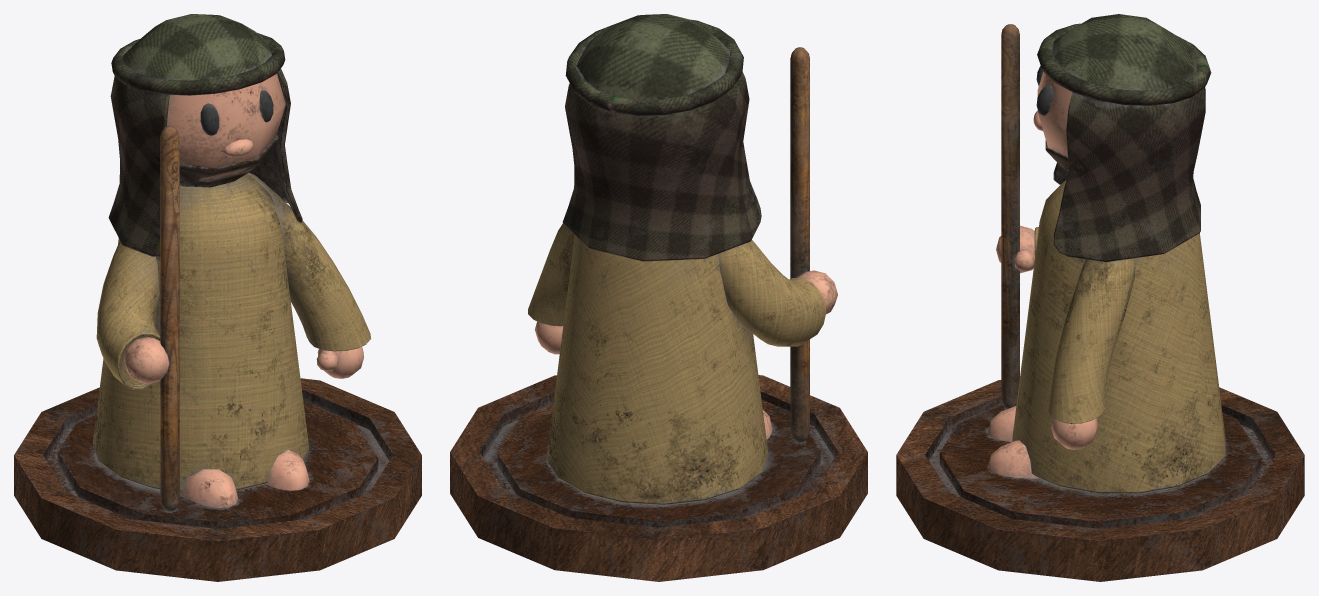
Rendered from Jose.fbx.
3 views of the same model, side by side, from view 1: azimuth 30°, elevation 25°; view 2: azimuth 150°, elevation 25°; view 3: azimuth 270°, elevation 25° (orthographic). The views are drawn at different scales.
Visible parts, largest first — view 1: Circle.009, Cylinder, Sphere, Sphere.005, Cylinder.002, Sphere.001, Cylinder.001, Torus, Sphere.010, Sphere.003, Sphere.002, Sphere.008 (+1 smaller); view 2: Cylinder, Circle.009, Sphere, Cylinder.001, Sphere.005, Torus, Cylinder.002, Sphere.003, Sphere.006; view 3: Circle.009, Cylinder, Sphere, Cylinder.002, Sphere.005, Torus, Sphere.010, Sphere.001, Sphere.006, Sphere.003.
Part boxes in pixels (left/top/right/bottom): Circle.009: left=14, top=378, right=421, bottom=581; Cylinder: left=93, top=174, right=309, bottom=491; Sphere: left=108, top=14, right=302, bottom=256; Sphere.005: left=160, top=125, right=179, bottom=511; Cylinder.002: left=247, top=172, right=371, bottom=351; Sphere.001: left=167, top=73, right=285, bottom=179; Cylinder.001: left=96, top=241, right=160, bottom=389; Torus: left=111, top=33, right=285, bottom=95; Sphere.010: left=180, top=449, right=309, bottom=508; Sphere.003: left=123, top=336, right=169, bottom=383; Sphere.002: left=179, top=135, right=278, bottom=187; Sphere.008: left=200, top=90, right=273, bottom=135; Cylinder: left=546, top=235, right=768, bottom=505; Circle.009: left=450, top=375, right=867, bottom=581; Sphere: left=562, top=14, right=761, bottom=261; Cylinder.001: left=717, top=240, right=826, bottom=346; Sphere.005: left=790, top=47, right=809, bottom=442; Torus: left=565, top=20, right=743, bottom=115; Cylinder.002: left=528, top=223, right=574, bottom=326; Sphere.003: left=796, top=270, right=837, bottom=314; Sphere.006: left=534, top=321, right=563, bottom=354; Circle.009: left=896, top=380, right=1304, bottom=581; Cylinder: left=1012, top=180, right=1225, bottom=494; Sphere: left=1051, top=14, right=1205, bottom=261; Cylinder.002: left=1048, top=258, right=1135, bottom=423; Sphere.005: left=1001, top=24, right=1019, bottom=409; Torus: left=1037, top=23, right=1211, bottom=105; Sphere.010: left=987, top=406, right=1038, bottom=478; Sphere.001: left=1037, top=72, right=1072, bottom=156; Sphere.006: left=1051, top=418, right=1098, bottom=449; Sphere.003: left=996, top=225, right=1034, bottom=273.
Bounding box in the file's own units: 302 × 382 × 302.
1 material, 1 textured.
